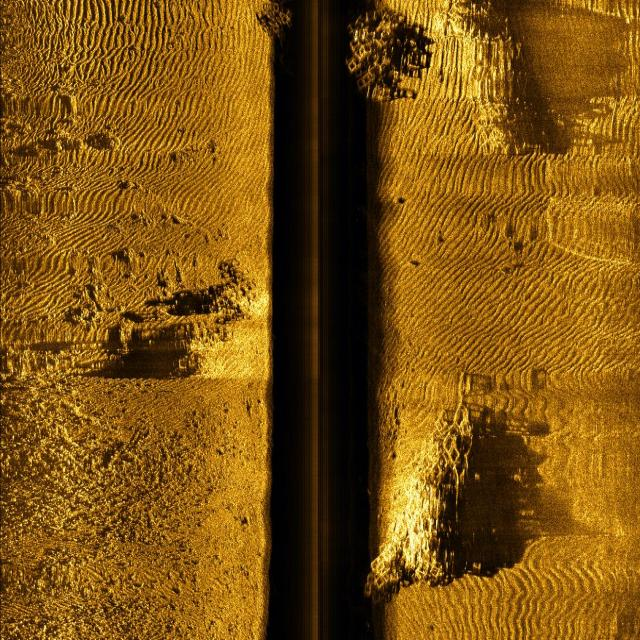artificial reef: (356, 366, 479, 608), (339, 0, 424, 104), (258, 3, 289, 41)
